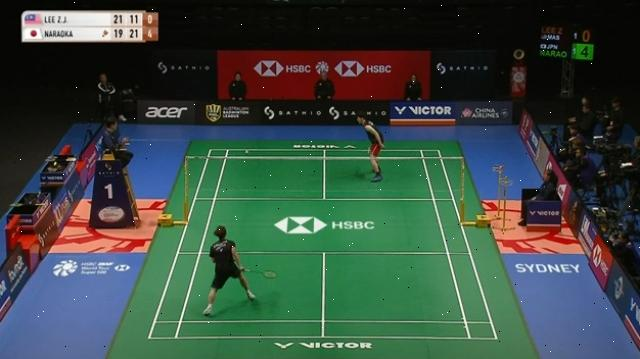Shuttlecock: (242, 148, 254, 158)
